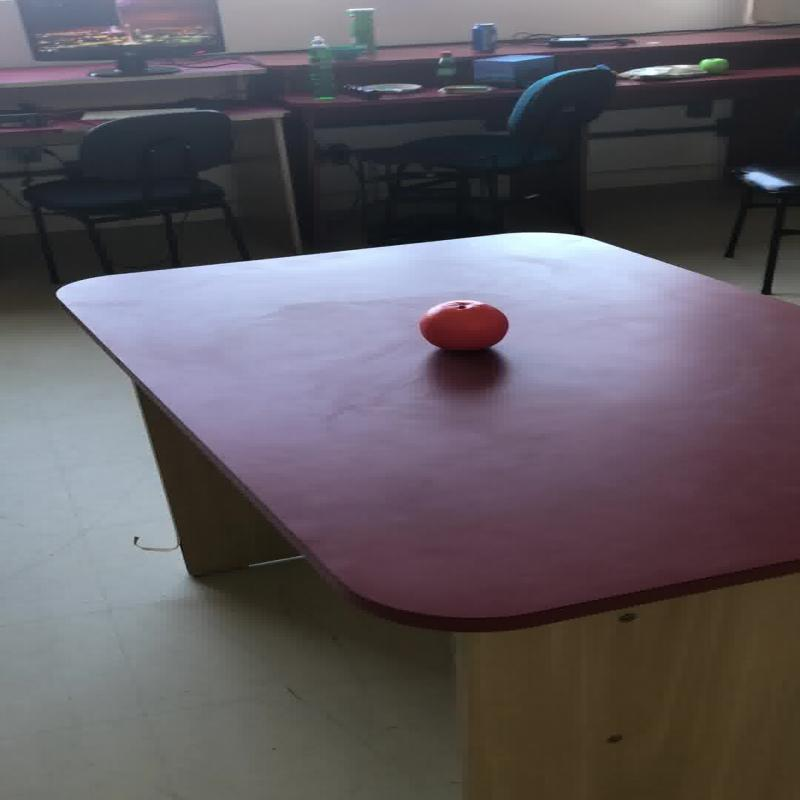orange: (416, 299, 508, 350), (697, 57, 728, 73)
